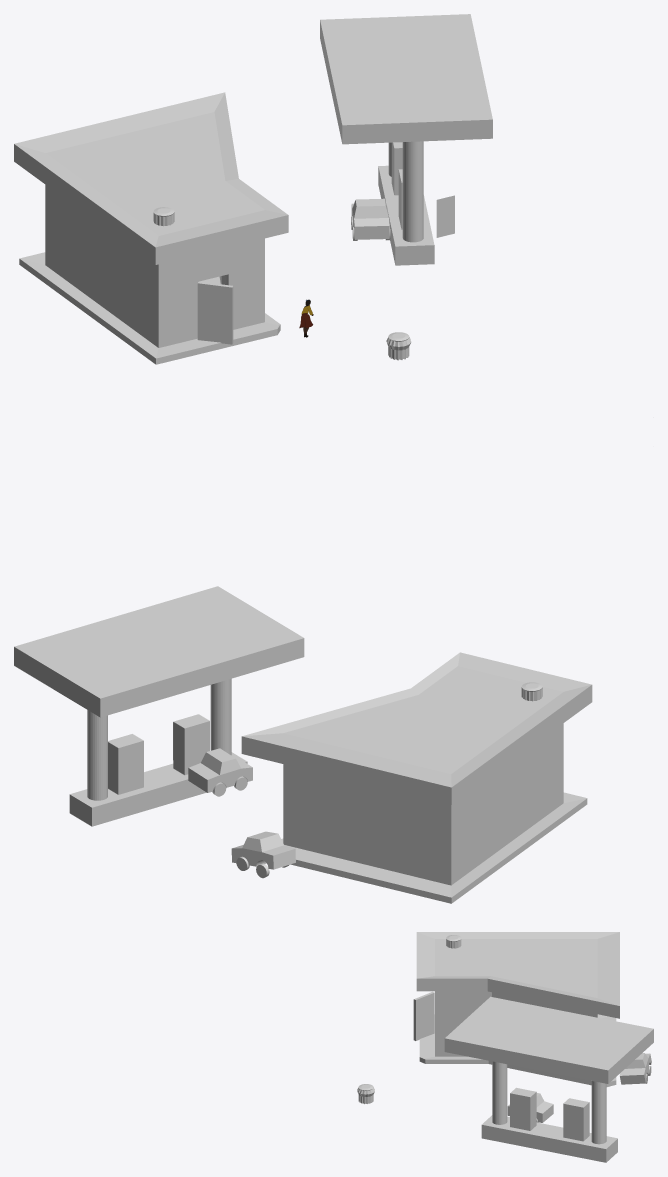
3 renders of one model, top to bottom at view 1: azimuth 30°, elevation 25°; view 2: azimuth 150°, elevation 25°; view 3: azimuth 270°, elevation 25°, orthographic. The views are drawn at different scales.
Parts seen in each view (by area): view 1: building.001, carport_roof.001, carport_base.001, carport_pillar_near.001, door.001, car_body.001, chester.001, roof_turbine.001; view 2: building.001, carport_roof.001, carport_base.001, car_body.001, carport_pillar_far.001, wrecked_car_body.001, carport_pillar_near.001; view 3: building.001, carport_roof.001, carport_base.001, carport_pillar_near.001, carport_pillar_far.001, door.001, wrecked_car_body.001, car_body.001.
Part boxes in pixels (x1,y1,x2,y2): building.001: [14, 92, 288, 364]; carport_roof.001: [320, 14, 492, 144]; carport_base.001: [378, 142, 434, 265]; carport_pillar_near.001: [402, 141, 423, 242]; door.001: [197, 281, 233, 344]; car_body.001: [351, 198, 389, 239]; chester.001: [436, 195, 454, 237]; roof_turbine.001: [386, 332, 411, 360]; building.001: [241, 652, 592, 903]; carport_roof.001: [14, 586, 304, 717]; carport_base.001: [69, 714, 247, 826]; car_body.001: [188, 748, 252, 792]; carport_pillar_far.001: [87, 710, 107, 800]; wrecked_car_body.001: [231, 831, 295, 869]; carport_pillar_near.001: [210, 678, 231, 755]; building.001: [416, 932, 619, 1086]; carport_roof.001: [444, 996, 653, 1083]; carport_base.001: [481, 1087, 617, 1162]; carport_pillar_near.001: [492, 1061, 507, 1124]; carport_pillar_far.001: [591, 1081, 606, 1144]; door.001: [413, 991, 434, 1040]; wrecked_car_body.001: [619, 1053, 651, 1084]; car_body.001: [507, 1093, 553, 1122].
Size of what is drawn, in the model's own units: 4920 by 1678 by 8463.
